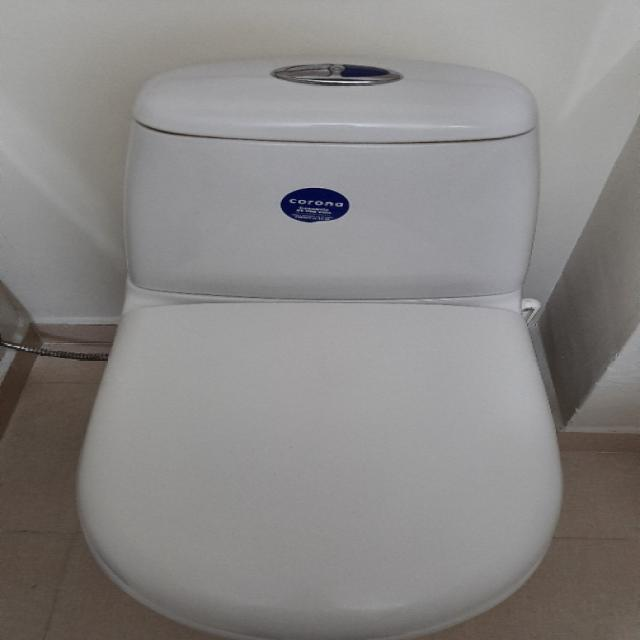toilet: (75, 56, 564, 638)
